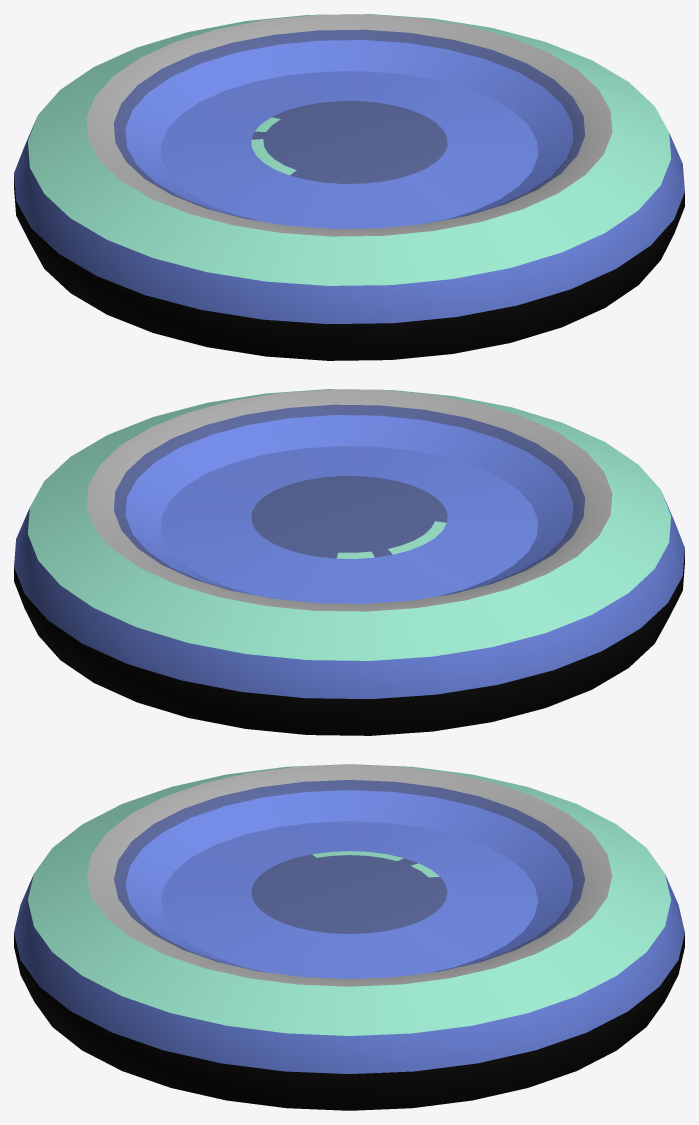
Rendered from PM_RefinedGlass.fbx.
3 views of the same model, one above another, from view 1: azimuth 30°, elevation 25°; view 2: azimuth 150°, elevation 25°; view 3: azimuth 270°, elevation 25° (orthographic).
Parts seen in each view (by area): view 1: RefinedGlass; view 2: RefinedGlass; view 3: RefinedGlass.
Part boxes in pixels (x1,y1,x2,y2): RefinedGlass: (14, 14, 684, 360); RefinedGlass: (14, 389, 684, 735); RefinedGlass: (14, 764, 684, 1110).
Bounding box in the file's own units: 0.6373 × 0.6373 × 0.104.
